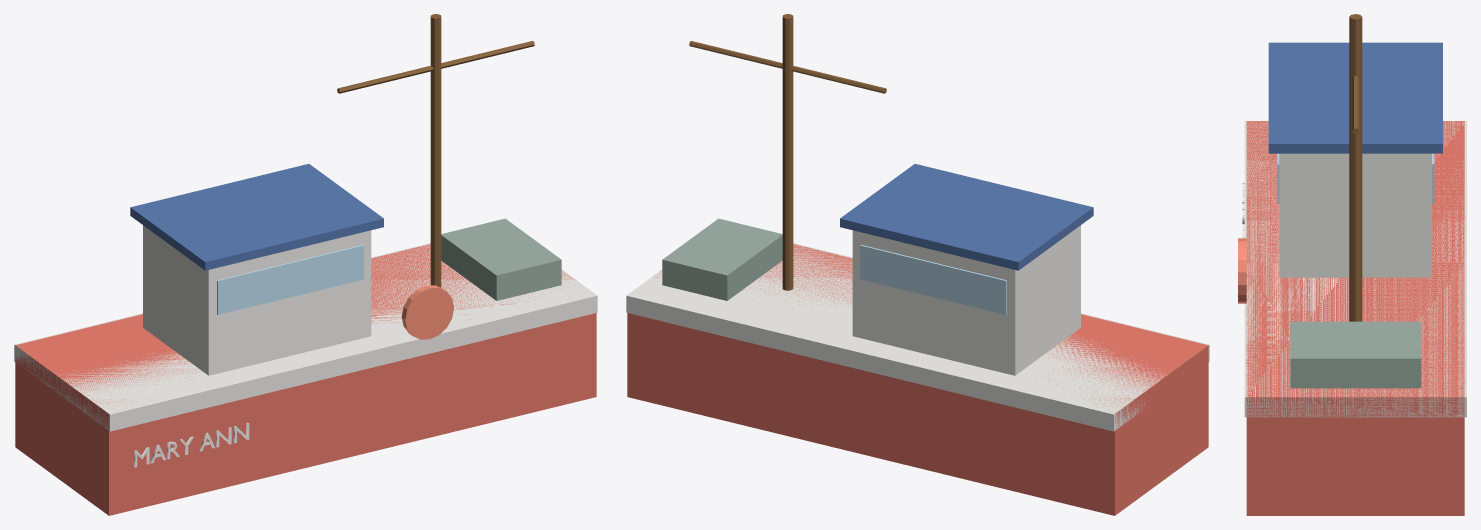
File: harbour_boat.glb
The picture shows the model from 3 angles, left to right: view 1: azimuth 30°, elevation 25°; view 2: azimuth 150°, elevation 25°; view 3: azimuth 270°, elevation 25°; orthographic projection. The views are drawn at different scales.
Visible parts, largest first — view 1: harbour_boat; view 2: harbour_boat; view 3: harbour_boat.
Part boxes in pixels (x1,y1,x2,y2): harbour_boat: (14, 14, 597, 515); harbour_boat: (626, 14, 1209, 515); harbour_boat: (1238, 14, 1466, 515).
Size of the model in its own units: 6 by 4.4 by 2.1.
